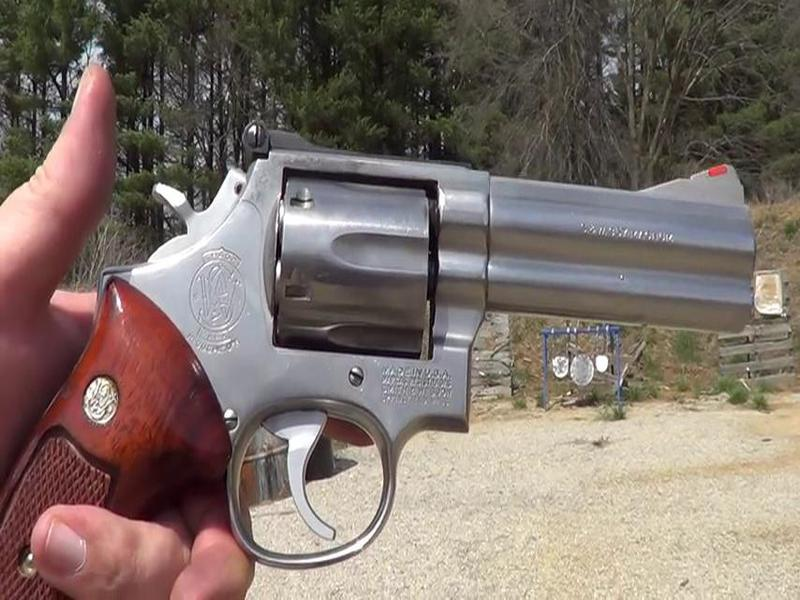Revolver: (68, 103, 777, 600)
